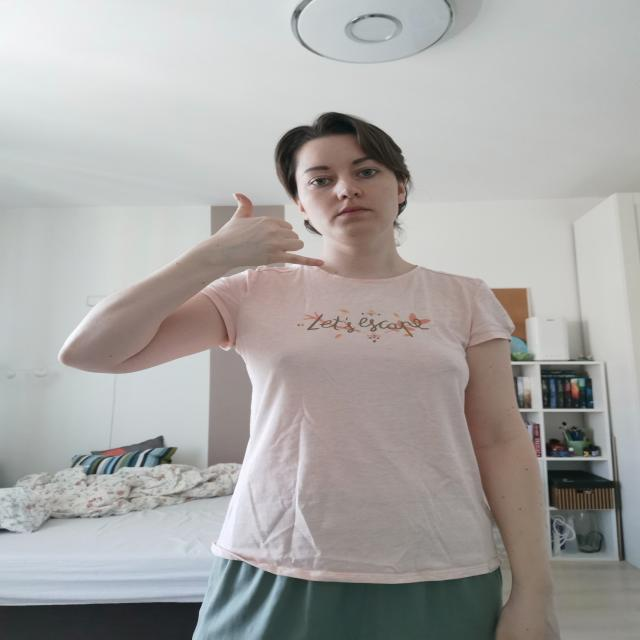call: (213, 188, 329, 271)
